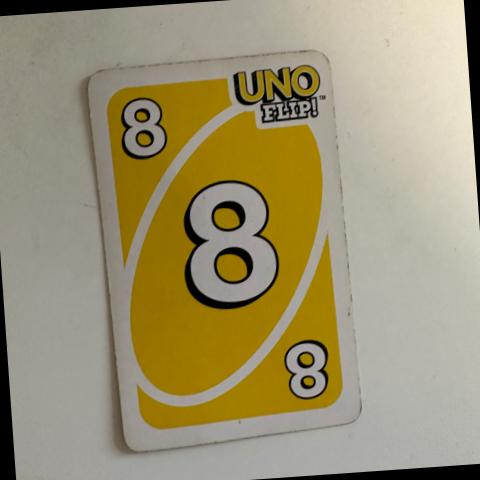2_yellow: (180, 179, 279, 310), (119, 97, 168, 160), (284, 339, 327, 400)
